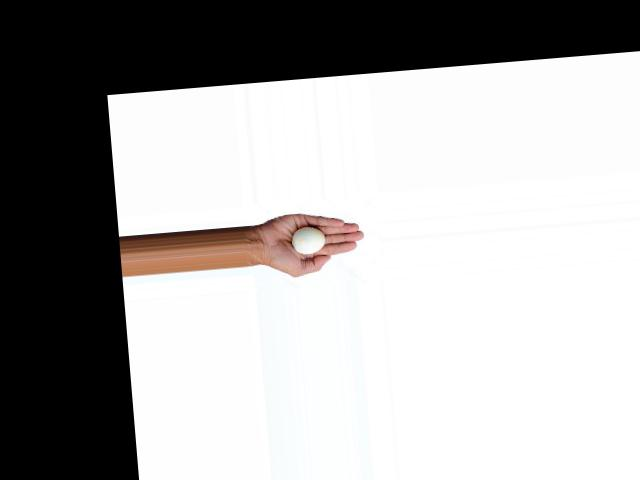egg: (291, 225, 327, 254)
